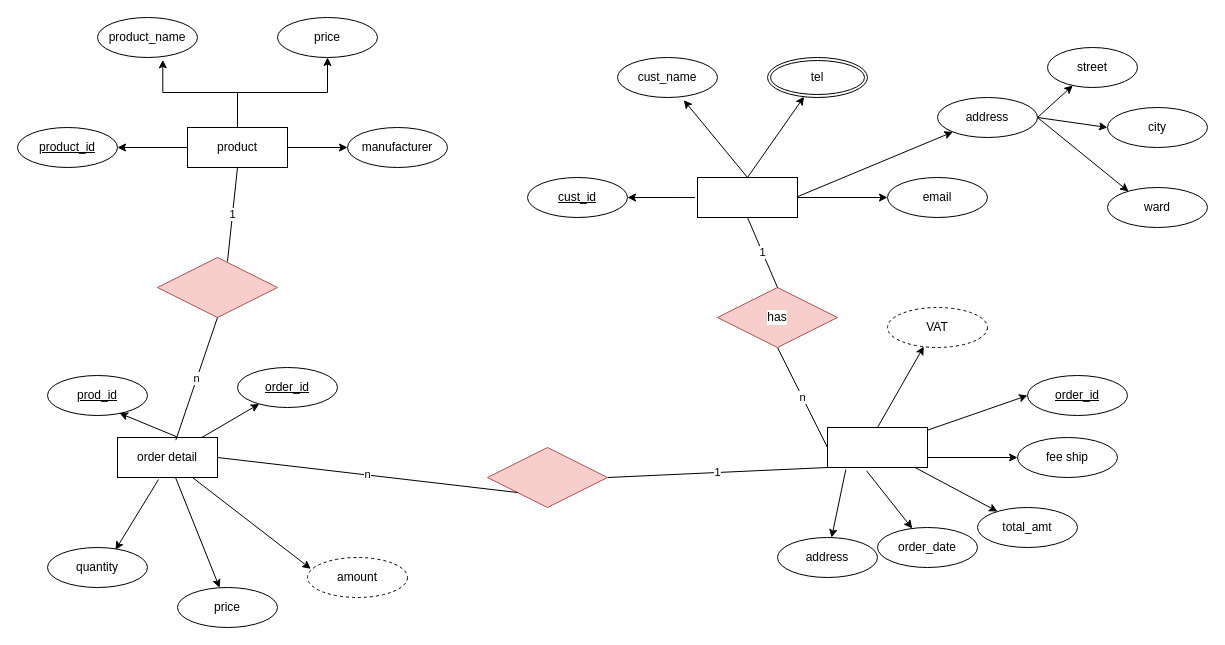
The diagram is 1225 pixels wide and 645 high, and some of its shapes have lost their labels. The centre of each missing label's shape, as x and y in pixels:
belong to: [217,287]
customer: [747,197]
include: [547,477]
order: [877,447]
